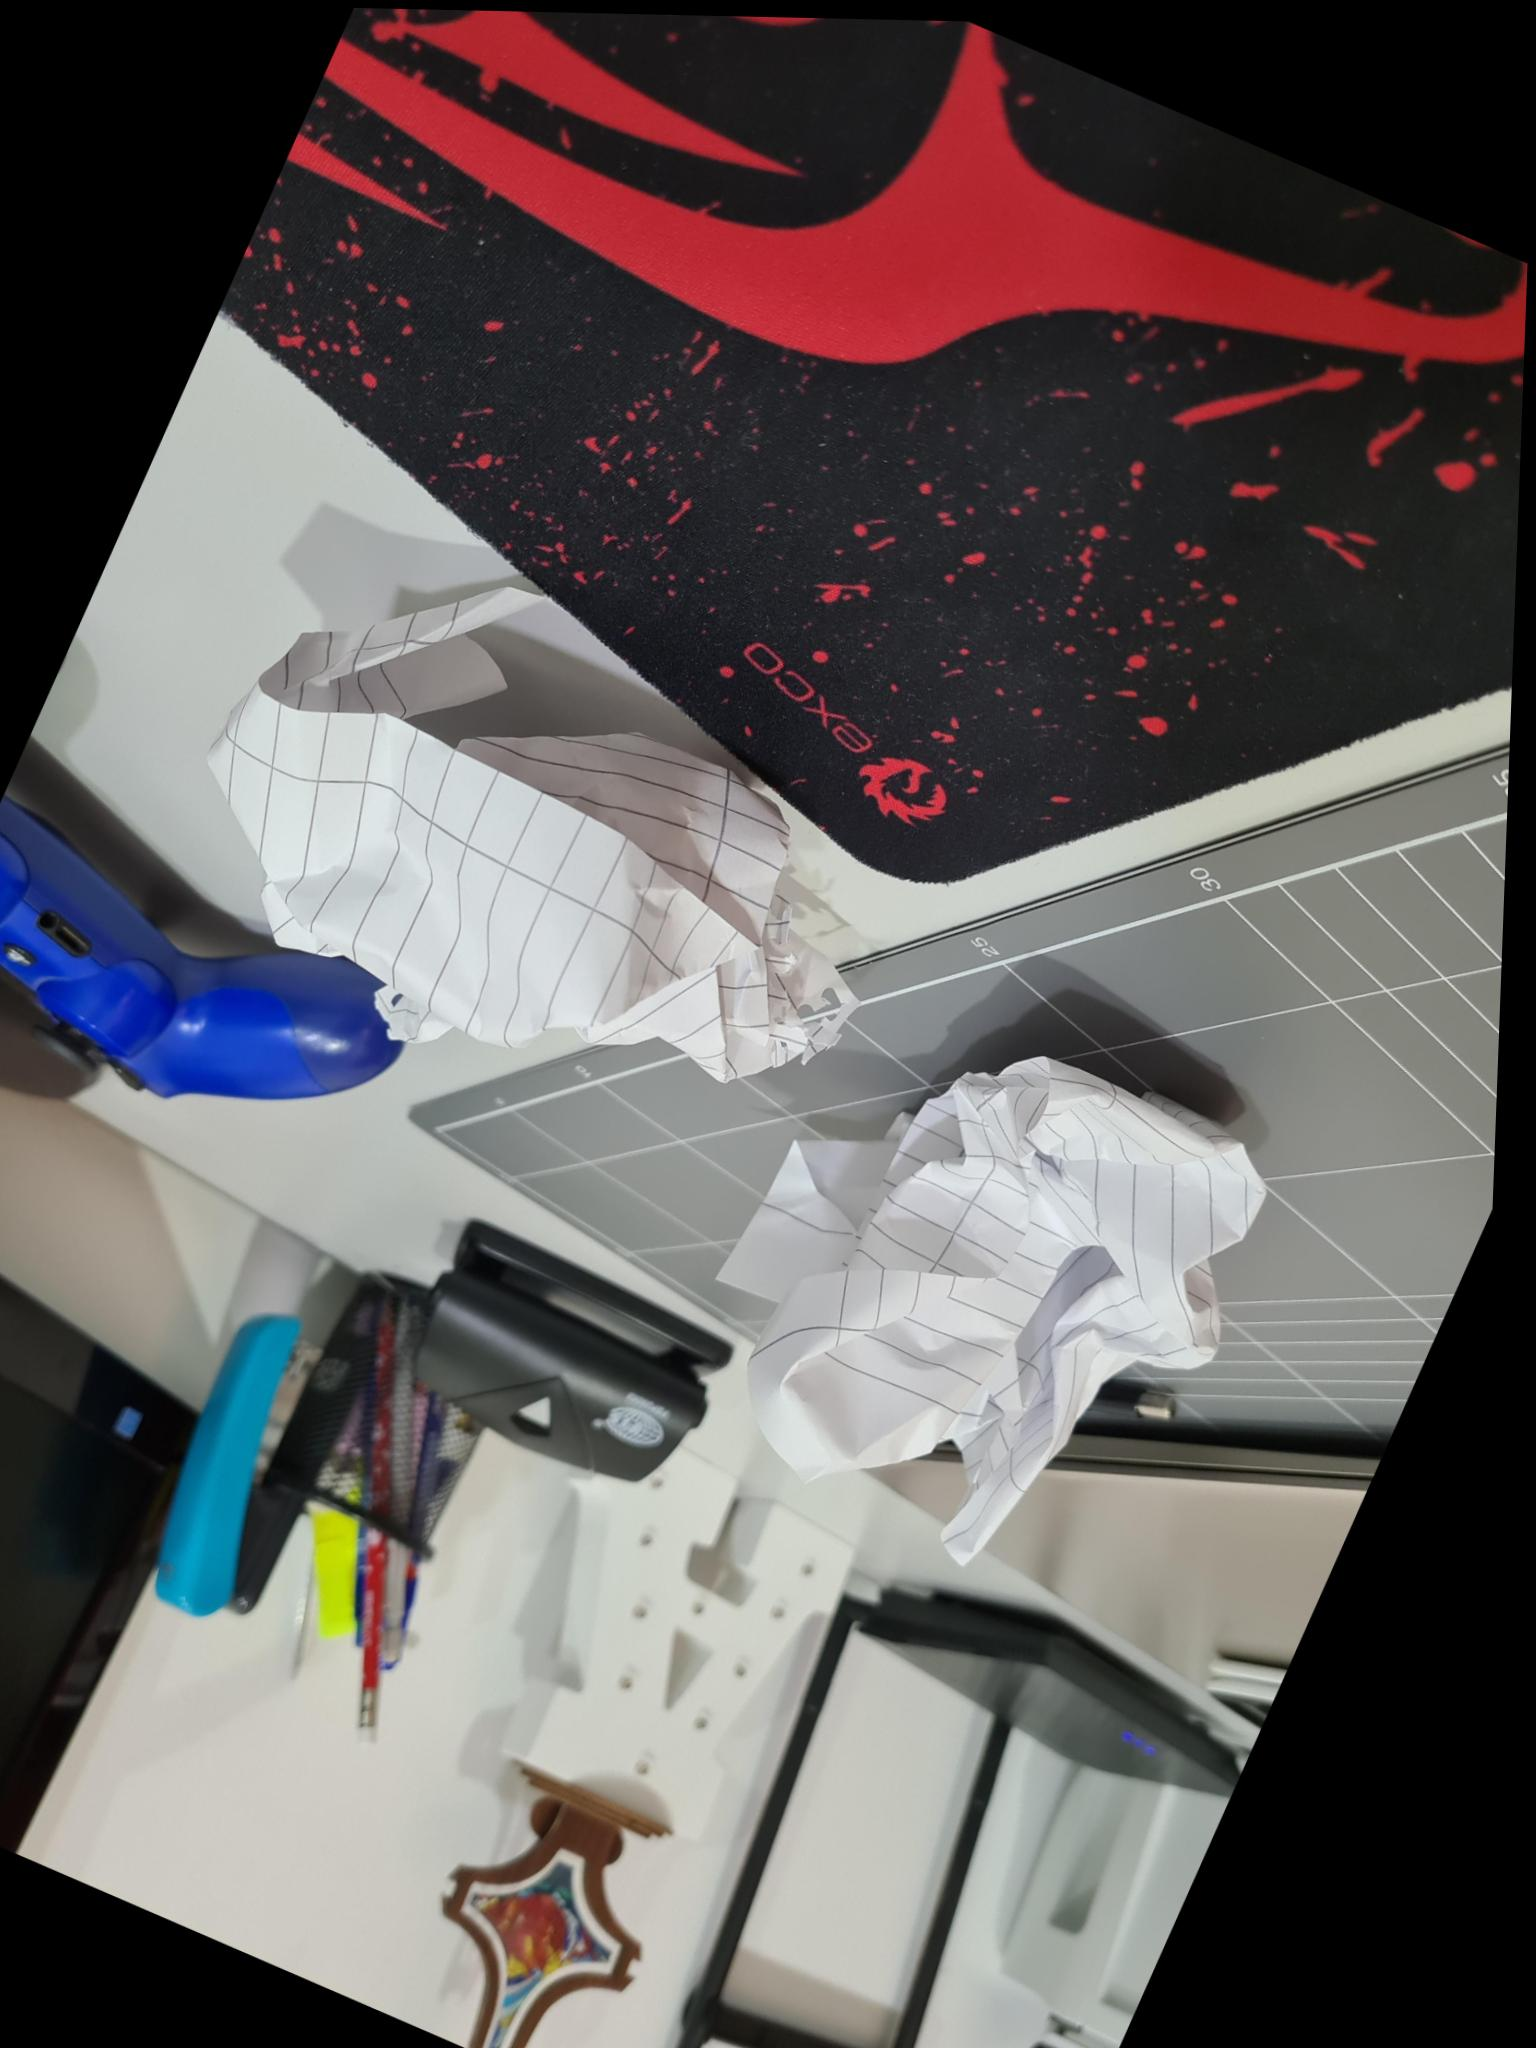paper: (211, 521, 870, 1074), (721, 1058, 1263, 1559)
